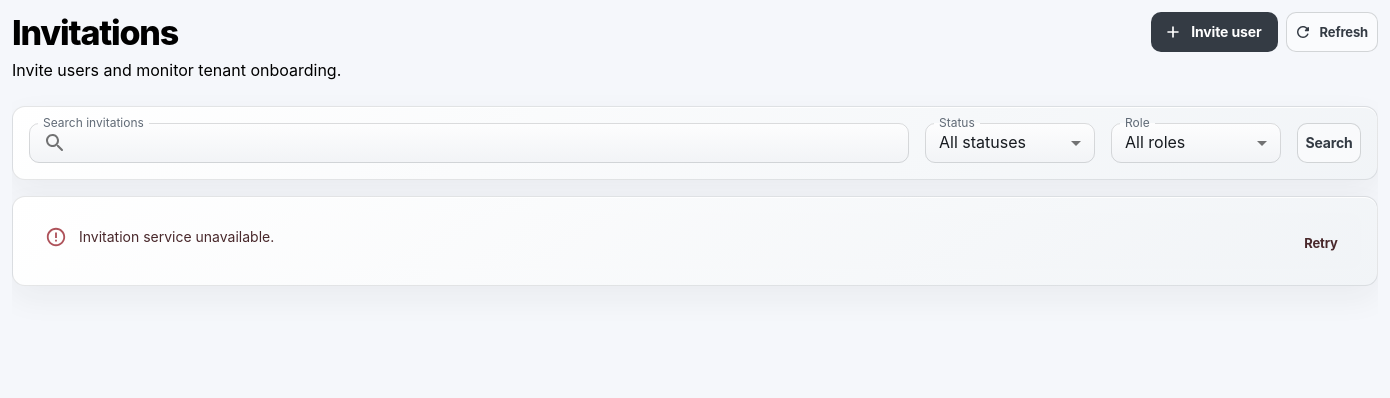
Test: InvitationsPage › retries after the invitation request fails
Expected: the text "Invitation service unavailable." is shown, [79, 228, 274, 245]
Click the button "Retry" at (1321, 243), box [1289, 223, 1353, 263]
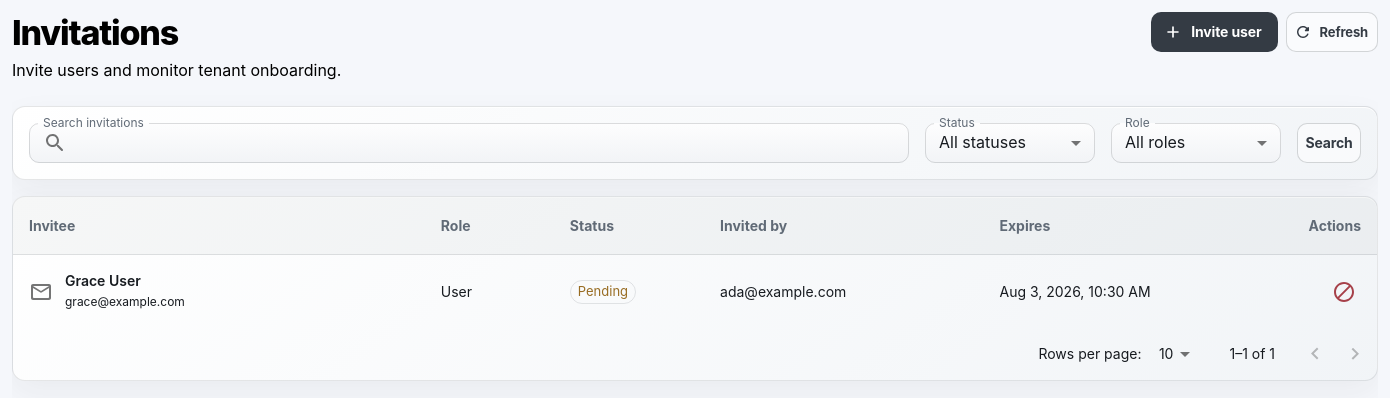
Expected: the text "Grace User" is shown, [65, 272, 141, 289]
